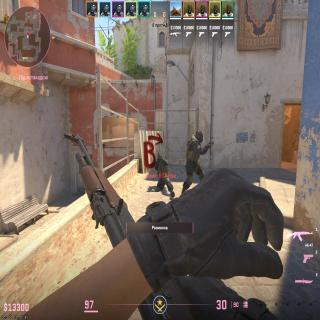CT-Body: (186, 130, 203, 186), (155, 154, 169, 196)
CT-Head: (158, 154, 162, 160)
